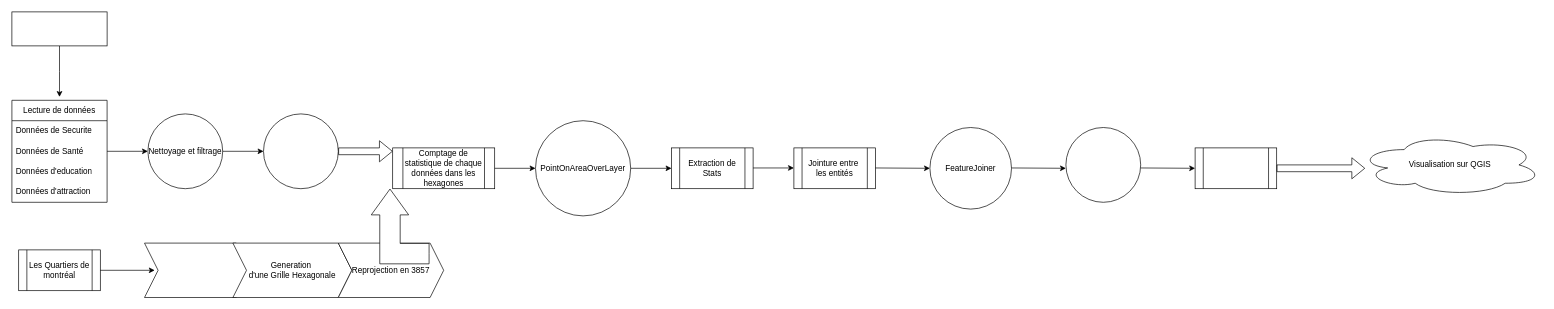
The diagram is 1554 pixels wide and 309 high, and some of its shapes have lost their labels. Here are the shapes that lost their labels. From the top down, the centre of each, then its label:
pixel 59 28: Données ouvertes (Ville de Montréal et Province du QC)
pixel 300 151: Reprojection vers le 3857
pixel 1103 164: Nettoyage
pixel 1235 168: Calcul des Scores
pixel 197 270: Reprojection en 4326
